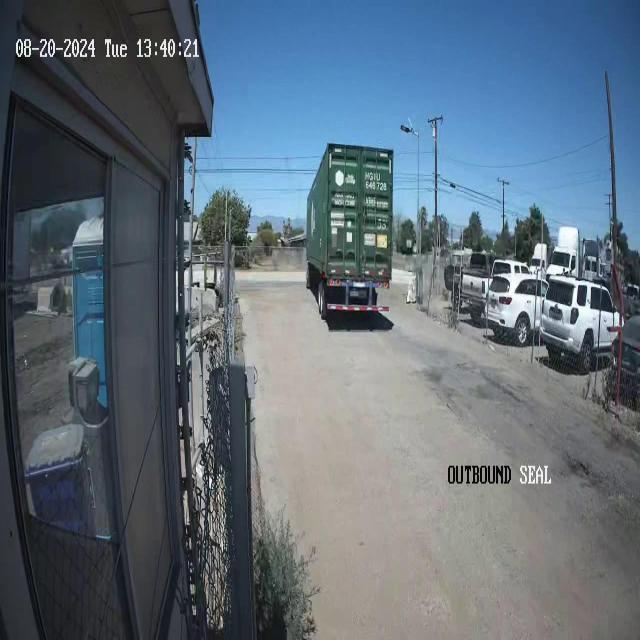TRUCK_OUT: (305, 141, 394, 322)
